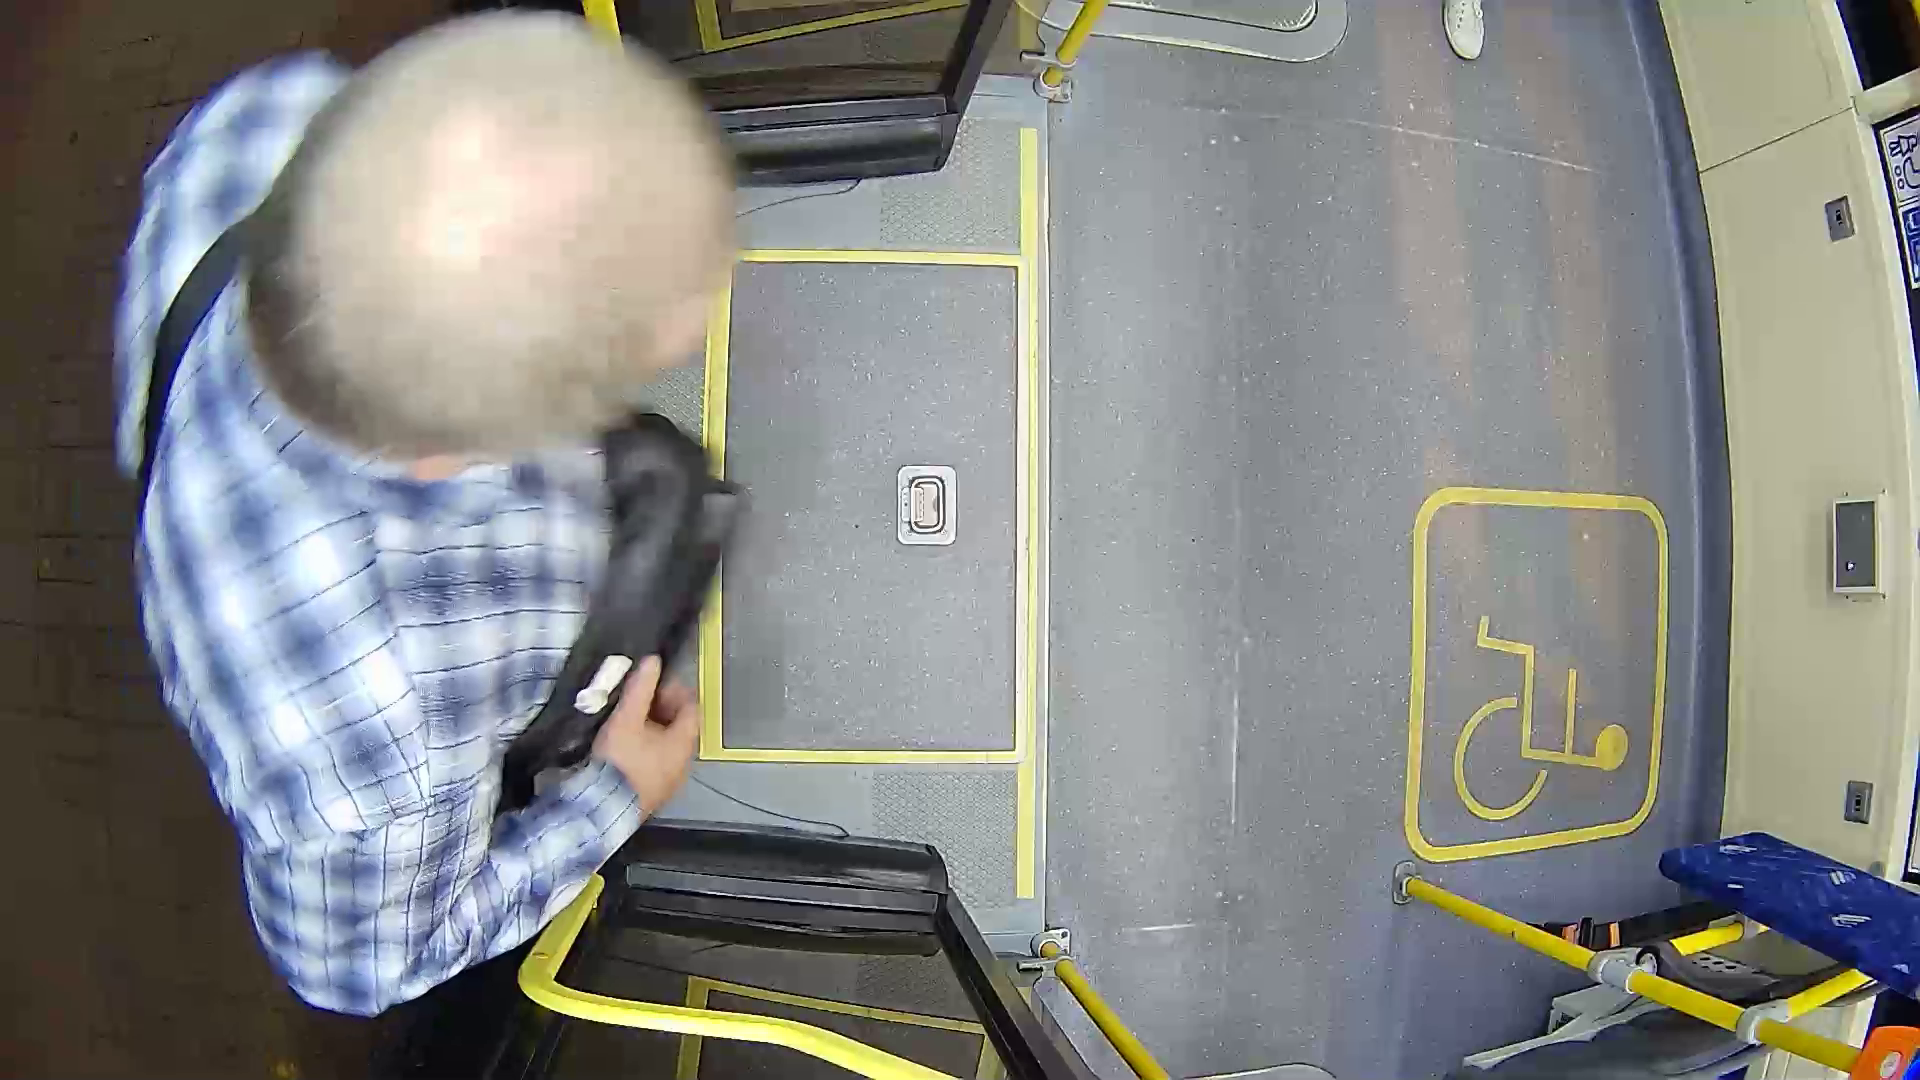person: (115, 42, 888, 1001)
